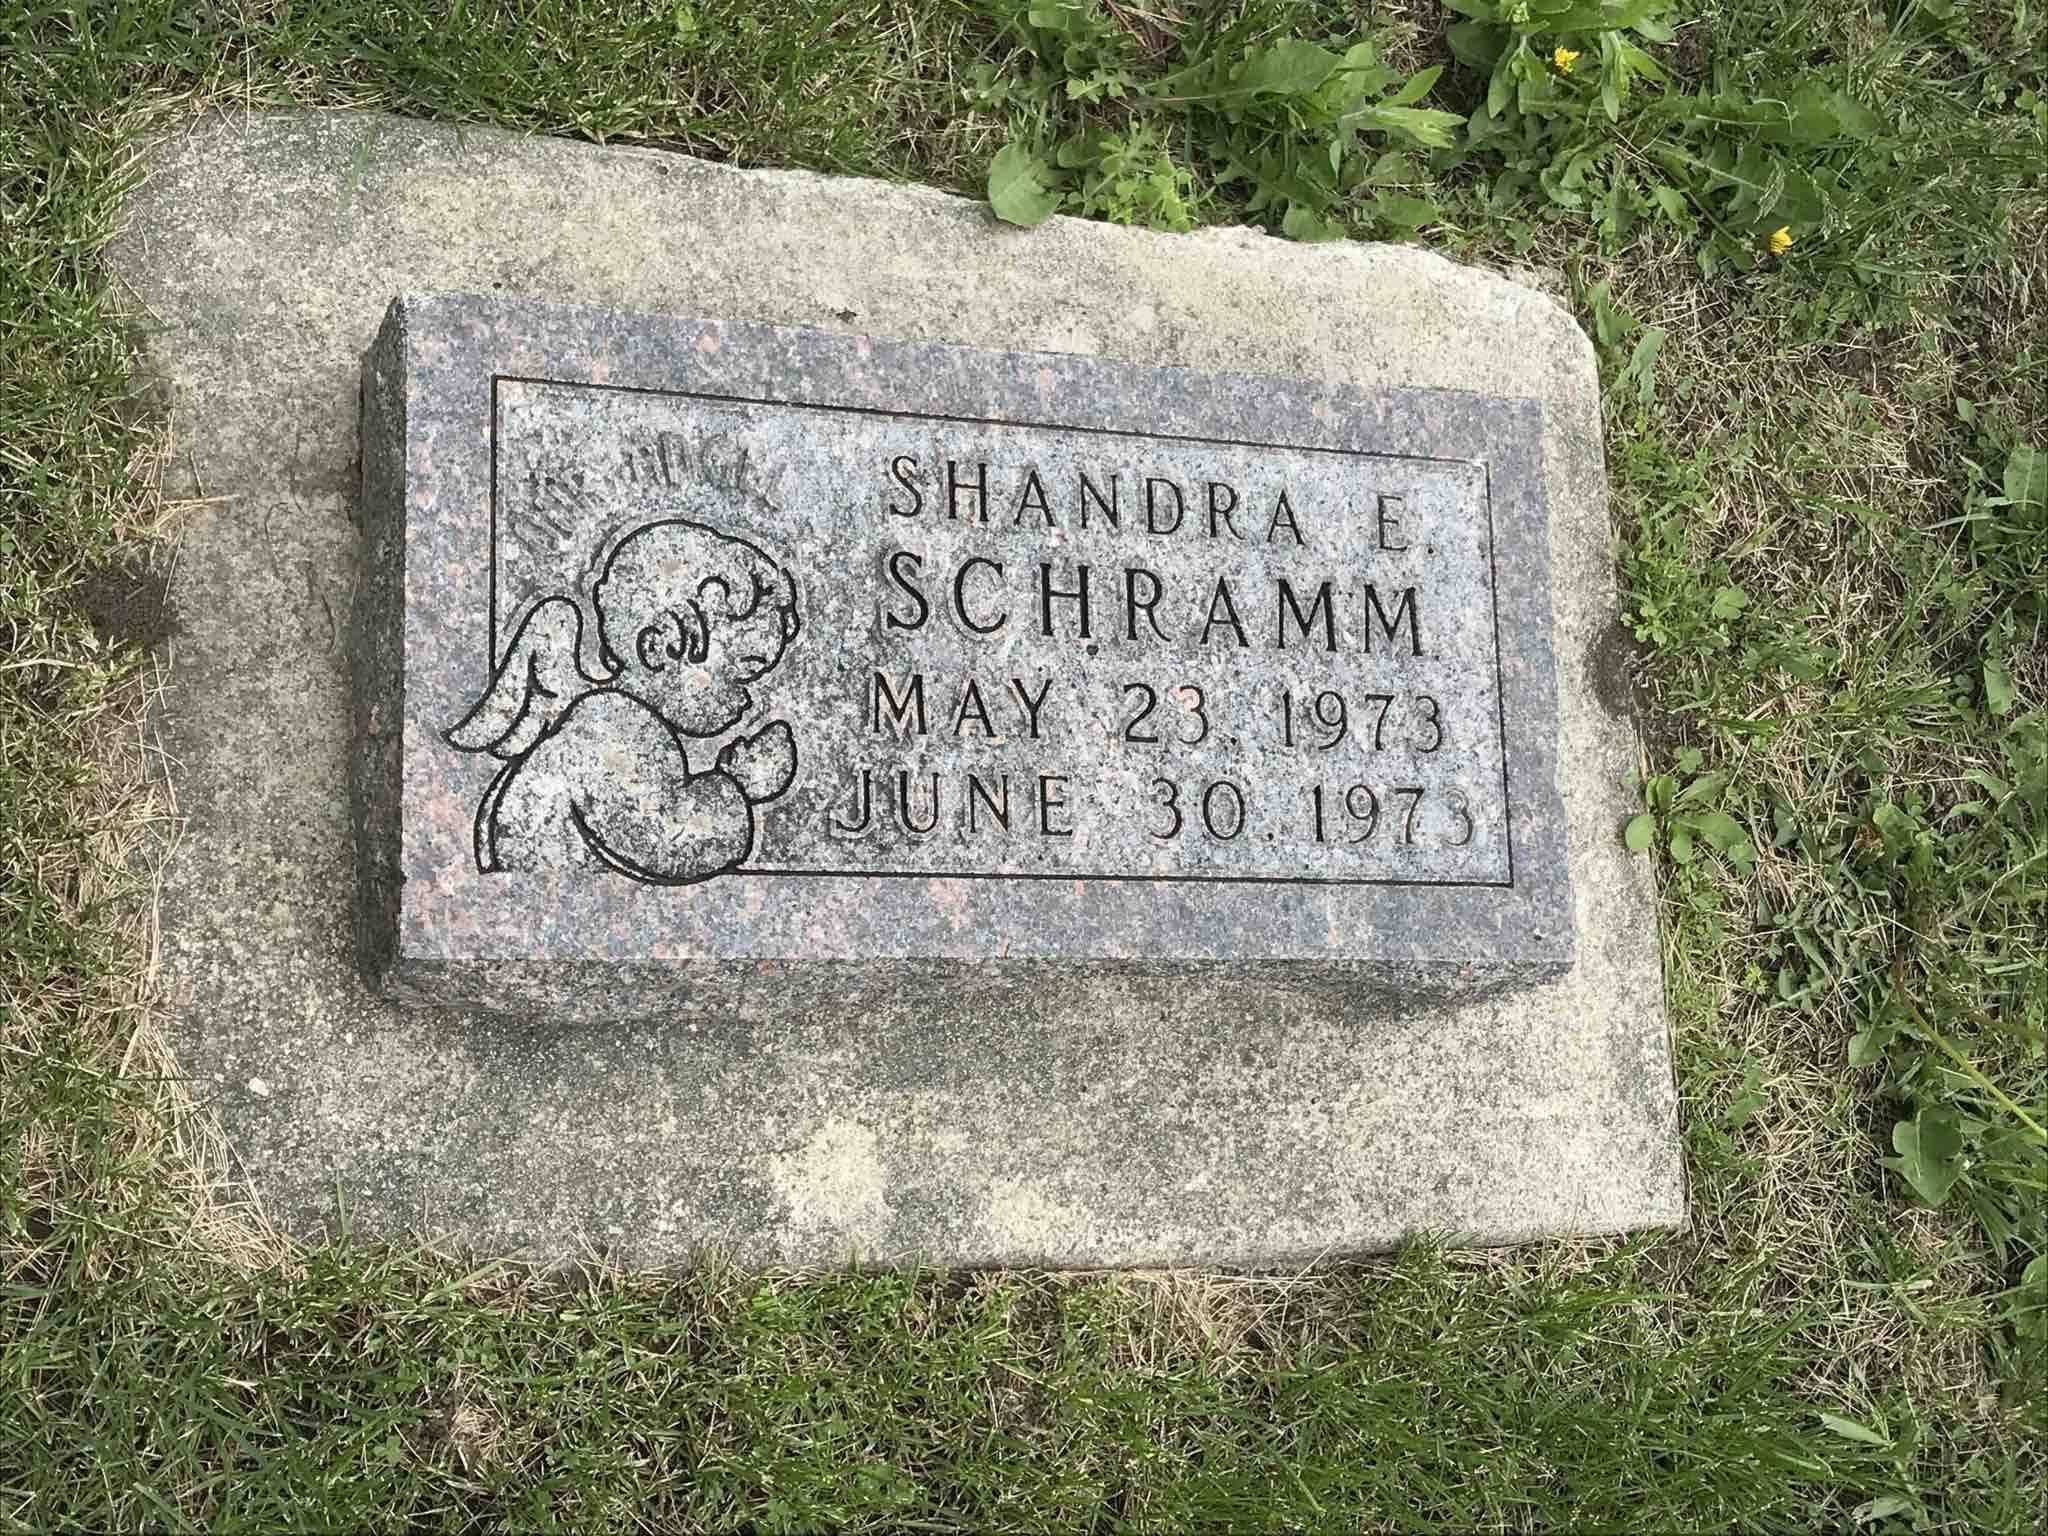flat: (68, 103, 1725, 1281)
